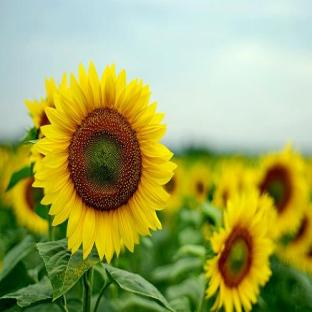sunflower: (32, 63, 177, 262)
